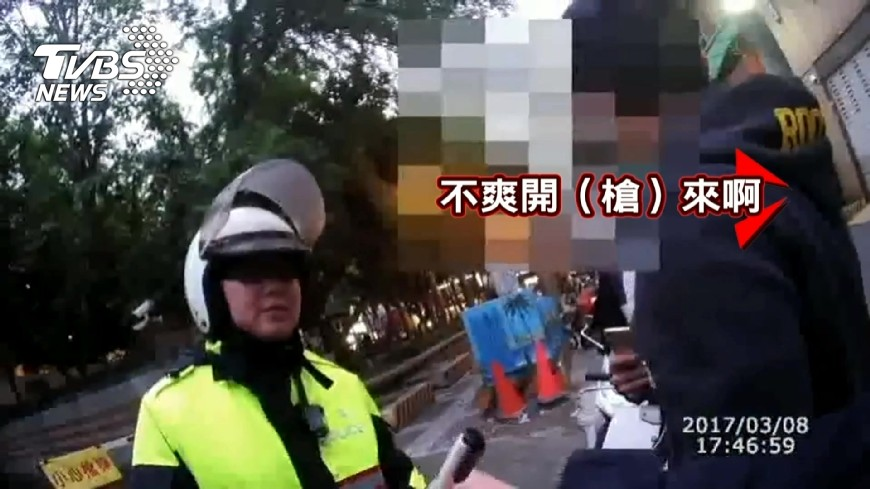helmet: (180, 189, 318, 304)
